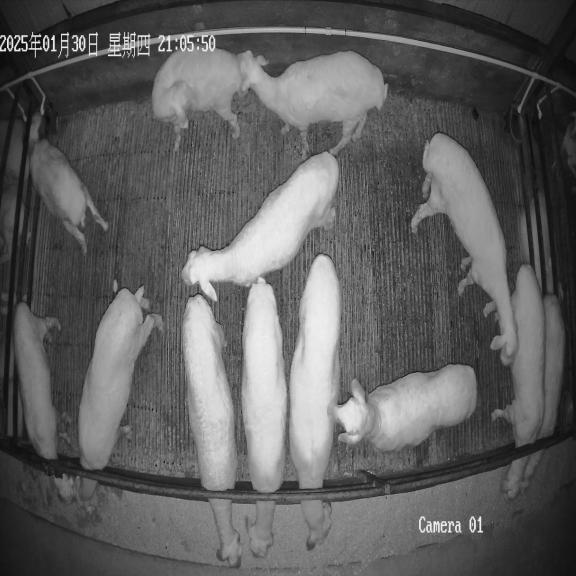drinking: (29, 110, 108, 254)
eating: (75, 280, 164, 501), (182, 294, 242, 566), (289, 254, 341, 550), (491, 264, 545, 498), (242, 277, 287, 557), (14, 302, 76, 502), (521, 294, 565, 487)
stand: (411, 133, 518, 364), (181, 152, 339, 301), (238, 51, 387, 161), (334, 364, 477, 451), (152, 49, 243, 151)
